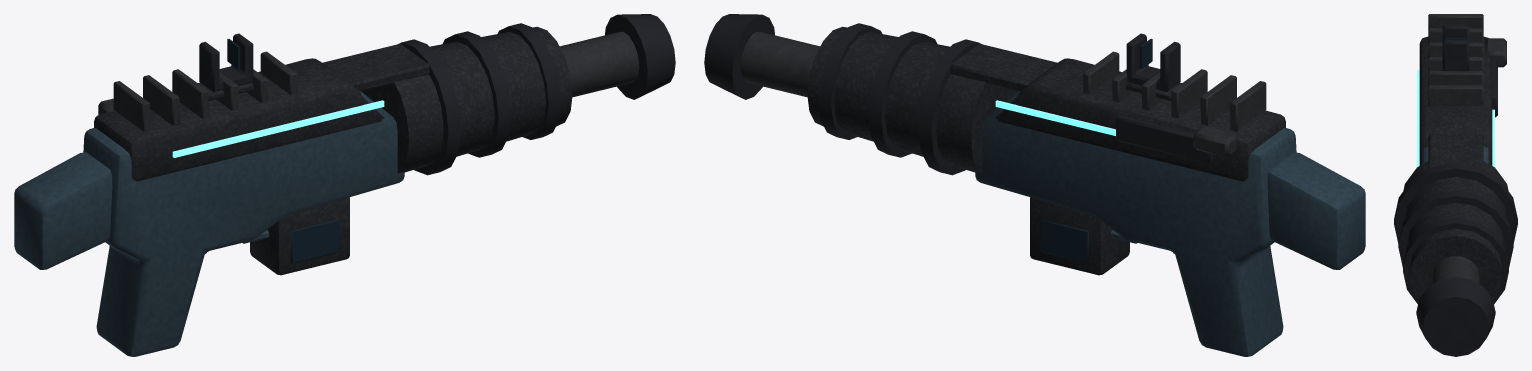
Rendered from blaster_r2.fbx.
3 views of the same model, side by side, from view 1: azimuth 30°, elevation 25°; view 2: azimuth 150°, elevation 25°; view 3: azimuth 270°, elevation 25° (orthographic). The views are drawn at different scales.
Parts seen in each view (by area): view 1: Body, Magazine, Glow; view 2: Body, Magazine, Bolt, Glow; view 3: Body, Bolt, Glow.
Part boxes in pixels (bbox=[...]): Body: bbox=[14, 14, 675, 356]; Magazine: bbox=[250, 197, 349, 275]; Glow: bbox=[172, 100, 384, 157]; Body: bbox=[704, 14, 1365, 356]; Magazine: bbox=[1030, 197, 1129, 275]; Bolt: bbox=[1116, 115, 1237, 162]; Glow: bbox=[995, 100, 1115, 135]; Body: bbox=[1394, 14, 1517, 356]; Bolt: bbox=[1485, 38, 1506, 117]; Glow: bbox=[1417, 70, 1494, 167].
Bounding box in the file's own units: 6 × 2.52 × 1.12.
Materials: 2 (1 with a texture image).
